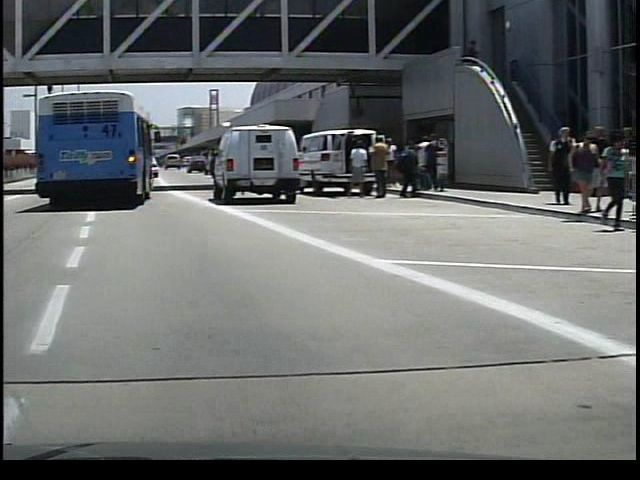person: (340, 134, 364, 197), (364, 135, 387, 200)
